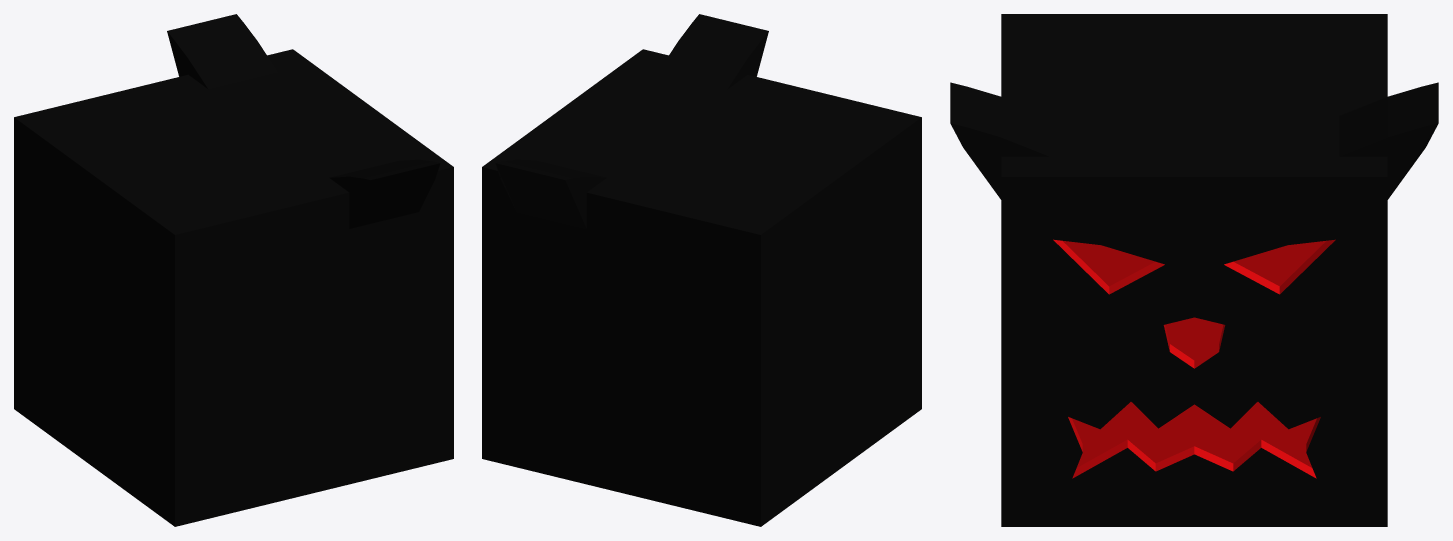
File: Enemy.fbx
3 renders of one model, left to right at view 1: azimuth 30°, elevation 25°; view 2: azimuth 150°, elevation 25°; view 3: azimuth 270°, elevation 25°, orthographic. The views are drawn at different scales.
Parts seen in each view (by area): view 1: Cube; view 2: Cube; view 3: Cube.
Boxes of the visible parts, x1,y1,x2,y2 form: Cube: [14, 14, 453, 526]; Cube: [482, 14, 921, 526]; Cube: [950, 14, 1438, 526].
Bounding box in the file's own units: 200 × 219 × 253.
